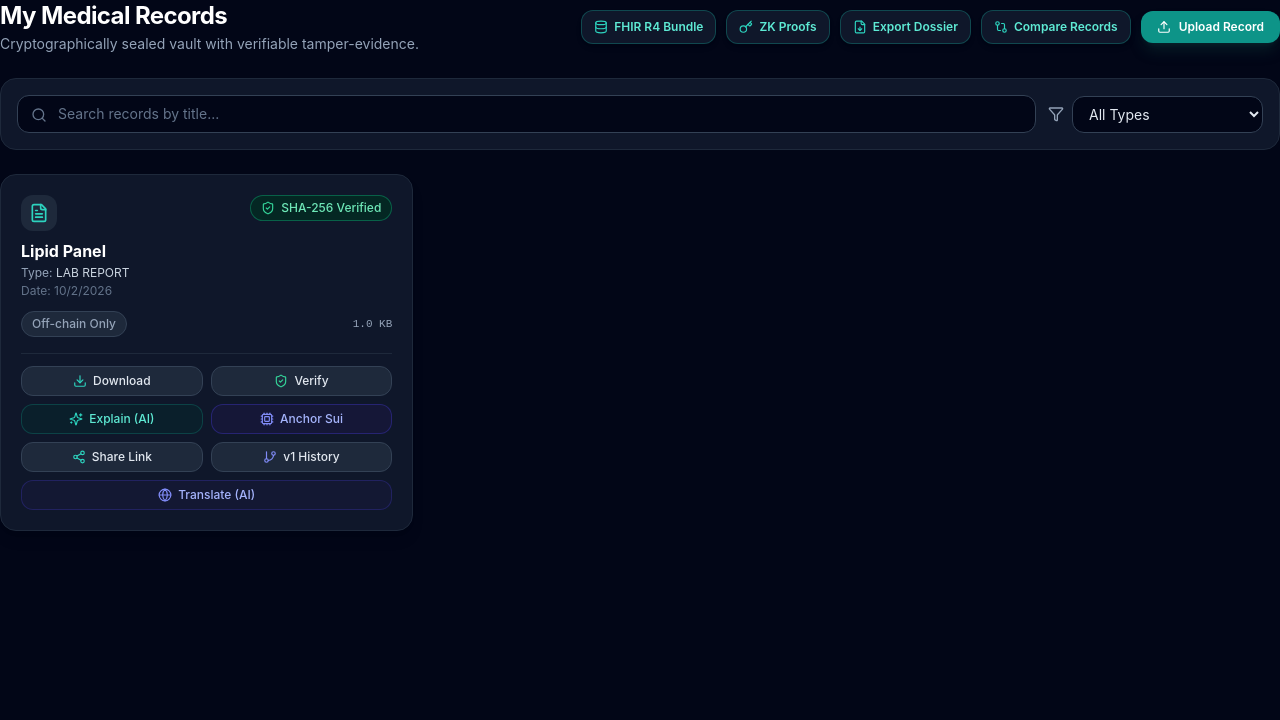
it: Checkpoint 11 - Patient Dashboard & Real APIs › My Records Page › opens integrity verification modal and displays hash match details
Expected: the heading "Lipid Panel" is shown, [21,241,106,261]
Click the button "Verify" at x=302, y=381, box [211,366,392,396]
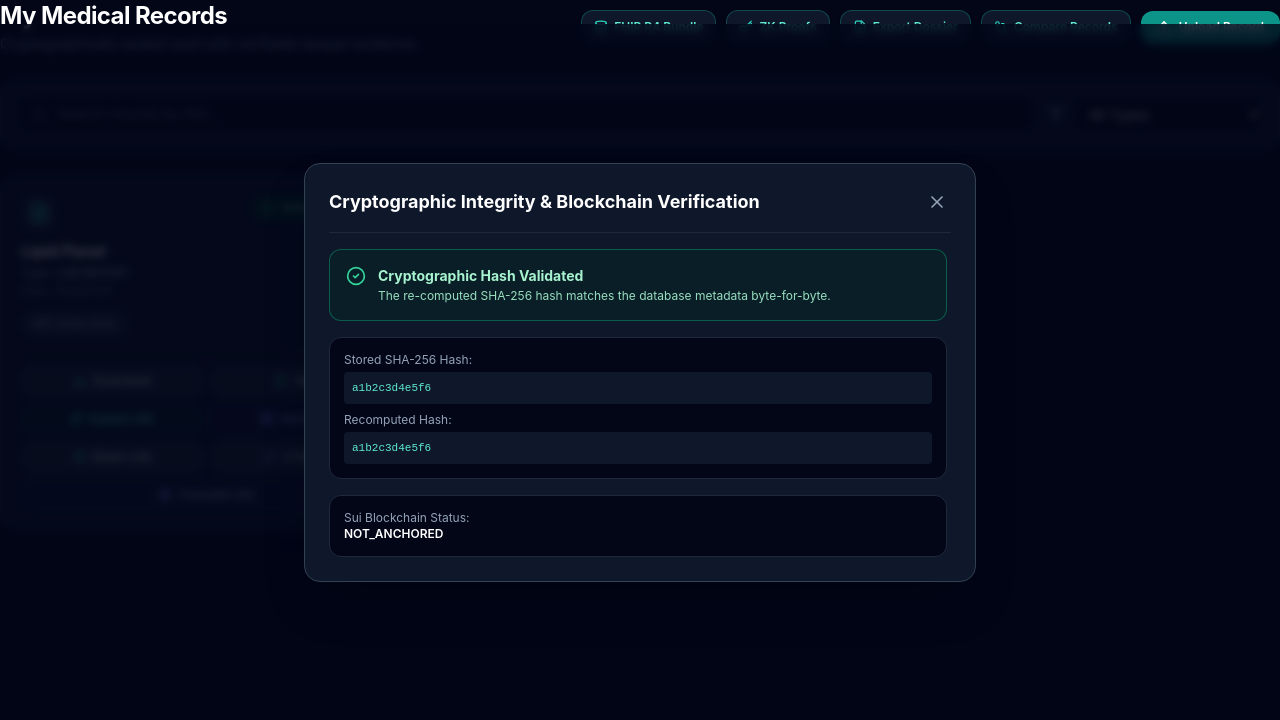
Now the heading "Cryptographic Hash Validated" is shown, box [378,266,583,284]
Now the text "The re-computed SHA-256 hash matches the database metadata byte-for-byte" is shown, box [378,288,831,302]
